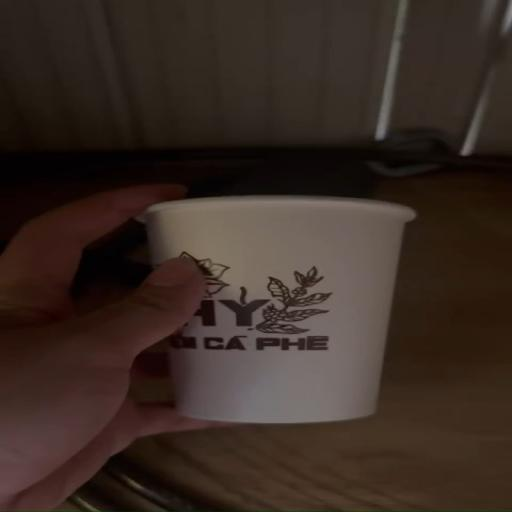Ly_giay: (143, 195, 414, 423)
